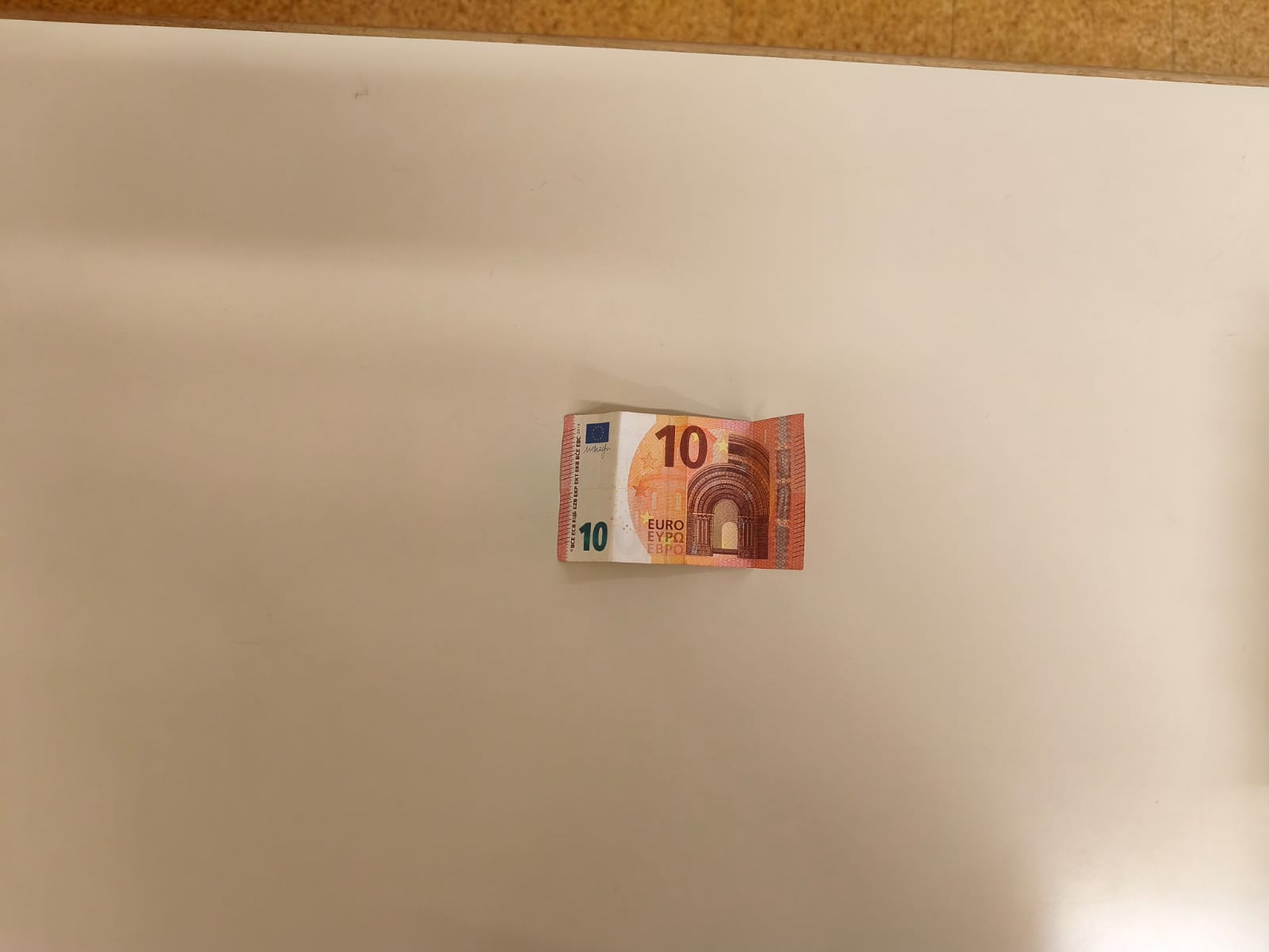Nota de 10€: (555, 400, 816, 569)
